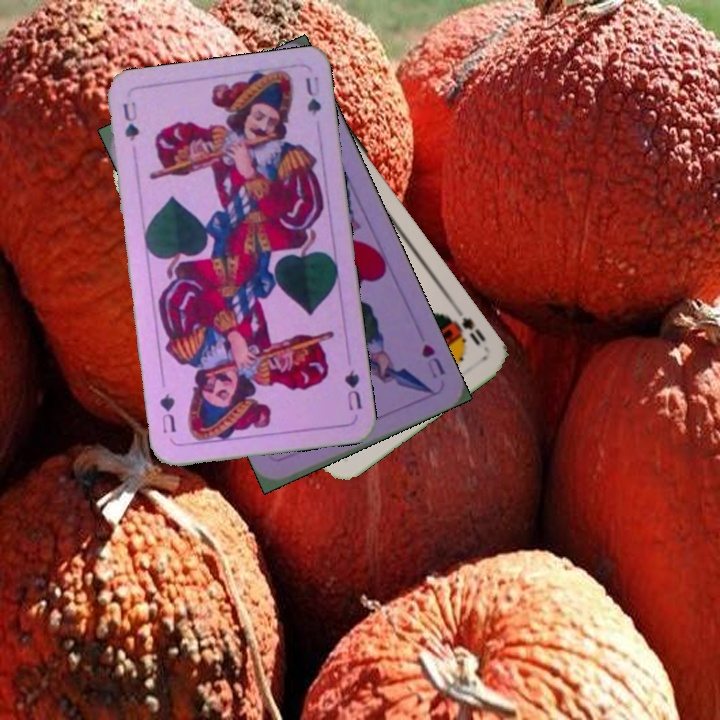GU: (340, 366, 365, 414), (118, 98, 142, 144)
HU: (417, 339, 448, 382)
SO: (448, 299, 489, 349)
